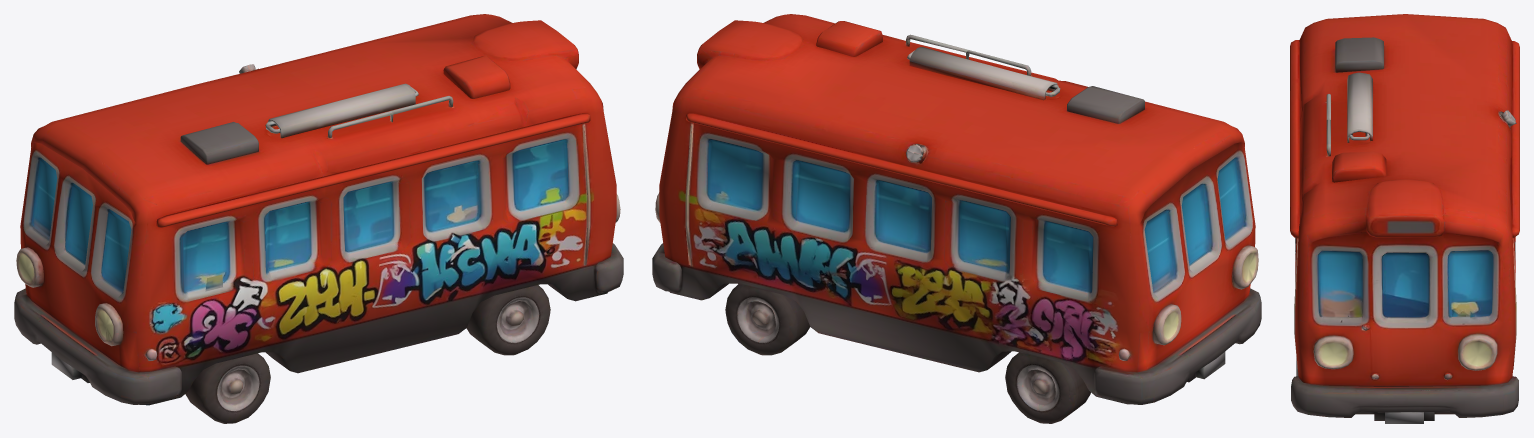
Rendered from train-red.glb.
3 renders of one model, left to right at view 1: azimuth 30°, elevation 25°; view 2: azimuth 150°, elevation 25°; view 3: azimuth 270°, elevation 25°, orthographic. The views are drawn at different scales.
Parts seen in each view (by area): view 1: tripo_node_65cd61a9-f199-468b-8b11-751fb039d8c0; view 2: tripo_node_65cd61a9-f199-468b-8b11-751fb039d8c0; view 3: tripo_node_65cd61a9-f199-468b-8b11-751fb039d8c0.
Boxes of the visible parts, x1,y1,x2,y2 form: tripo_node_65cd61a9-f199-468b-8b11-751fb039d8c0: [14, 14, 623, 423]; tripo_node_65cd61a9-f199-468b-8b11-751fb039d8c0: [652, 14, 1261, 423]; tripo_node_65cd61a9-f199-468b-8b11-751fb039d8c0: [1290, 14, 1519, 423].
Bounding box in the file's own units: 0.998 × 0.4941 × 0.416.
1 material, 1 textured.
